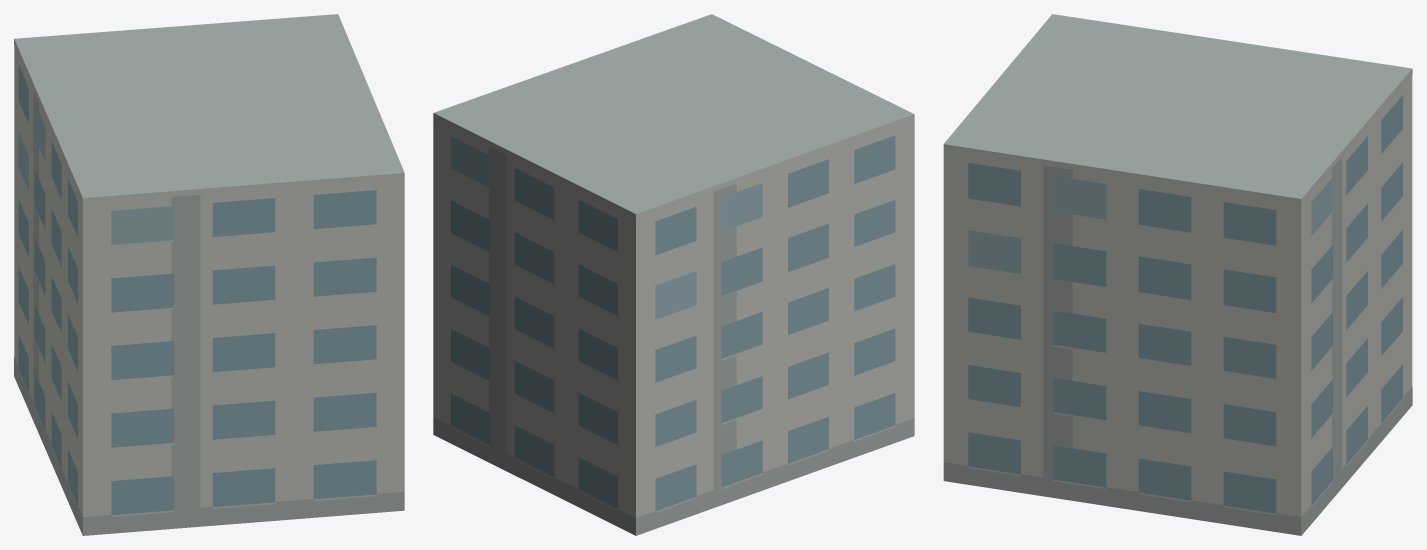
File: survey-upis-33019028.glb
3 renders of one model, left to right at view 1: azimuth 30°, elevation 25°; view 2: azimuth 150°, elevation 25°; view 3: azimuth 270°, elevation 25°, orthographic. The views are drawn at different scales.
Visible parts, largest first — view 1: survey-upis-33019028.tmp; view 2: survey-upis-33019028.tmp; view 3: survey-upis-33019028.tmp.
Boxes of the visible parts, x1=… form: survey-upis-33019028.tmp: x1=14, y1=14, x2=404, y2=535; survey-upis-33019028.tmp: x1=433, y1=14, x2=914, y2=535; survey-upis-33019028.tmp: x1=943, y1=14, x2=1412, y2=535.
Bounding box in the file's own units: 16.73 × 14.2 × 17.92.
